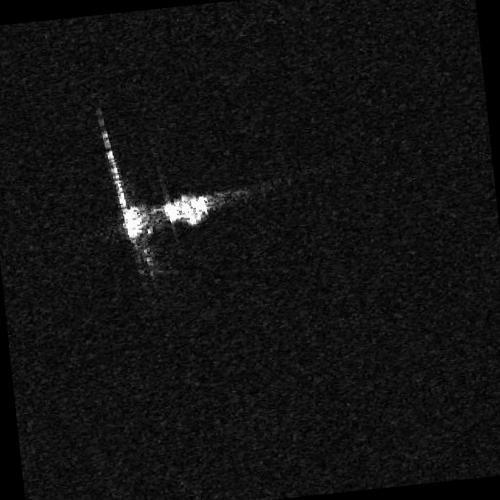ship: (119, 194, 215, 240)
